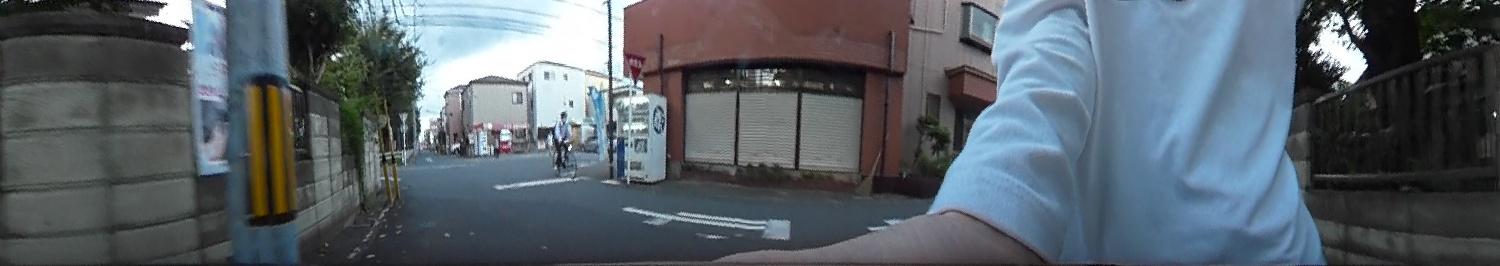person: (548, 108, 573, 162)
